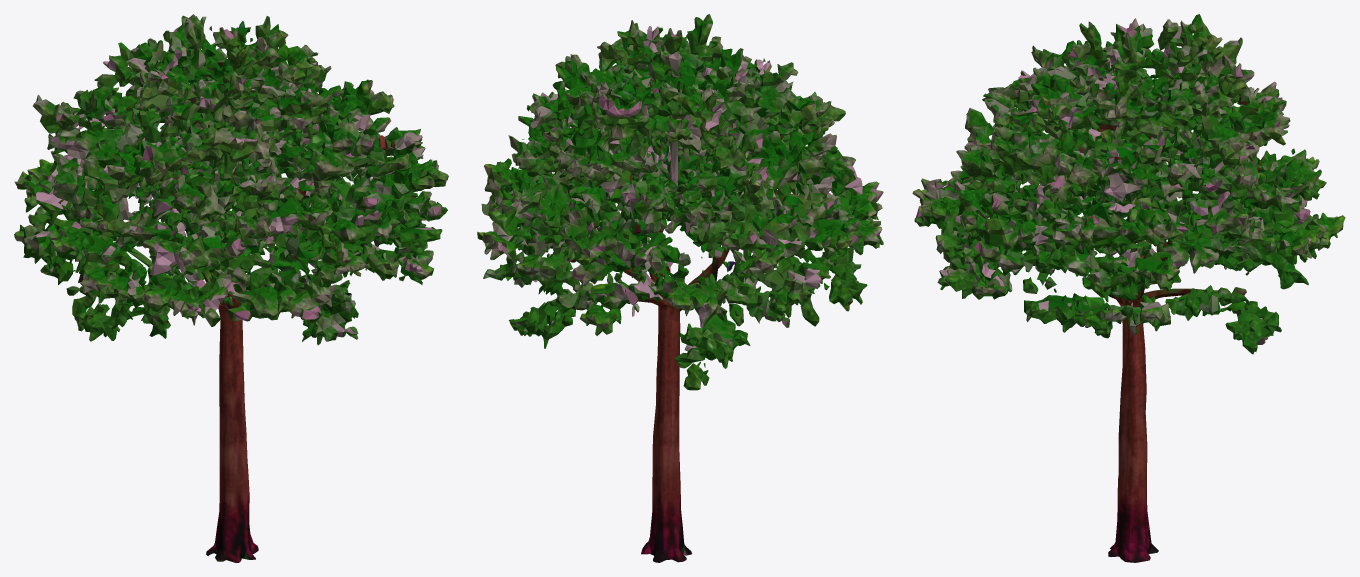
The model's file is Chinchona.glb.
The picture shows the model from 3 angles, left to right: view 1: azimuth 30°, elevation 25°; view 2: azimuth 150°, elevation 25°; view 3: azimuth 270°, elevation 25°; orthographic projection.
Parts seen in each view (by area): view 1: world; view 2: world; view 3: world.
Boxes of the visible parts, <box> form: world: <box>14,14,448,562</box>; world: <box>477,14,883,562</box>; world: <box>912,14,1345,562</box>.
Bounding box in the file's own units: 1.4 × 1.99 × 1.49.
Materials: 1 (1 with a texture image).
